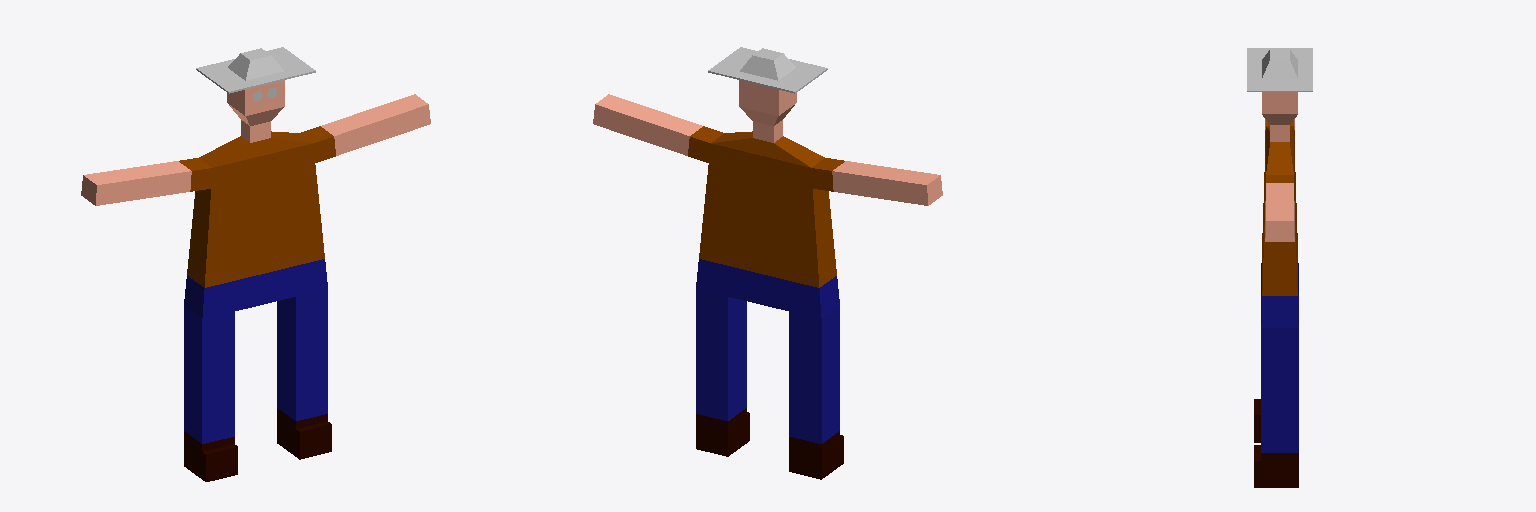
Rendered from hombre#2.obj.
3 renders of one model, left to right at view 1: azimuth 30°, elevation 25°; view 2: azimuth 150°, elevation 25°; view 3: azimuth 270°, elevation 25°, orthographic.
Visible parts, largest first — view 1: Mesh1 Model; view 2: Mesh1 Model; view 3: Mesh1 Model.
Boxes of the visible parts, box(x1,y1,x2,y2) form: Mesh1 Model: box(81, 47, 430, 481); Mesh1 Model: box(593, 47, 942, 479); Mesh1 Model: box(1247, 48, 1312, 487).
Bounding box in the file's own units: 2.08 × 2.39 × 0.3496.